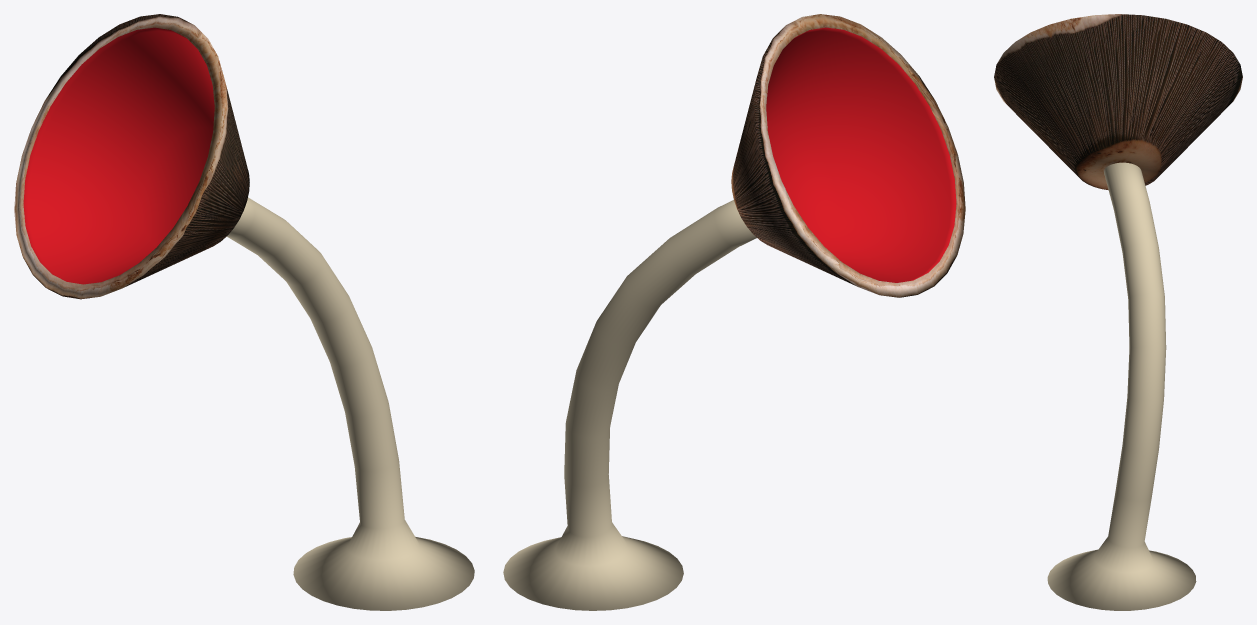
The model's file is champi41.fbx.
The picture shows the model from 3 angles, left to right: view 1: azimuth 30°, elevation 25°; view 2: azimuth 150°, elevation 25°; view 3: azimuth 270°, elevation 25°; orthographic projection. The views are drawn at different scales.
Visible parts, largest first — view 1: Cylinder_001; view 2: Cylinder_001; view 3: Cylinder_001.
Boxes of the visible parts, x1,y1,x2,y2 form: Cylinder_001: (14, 14, 474, 610); Cylinder_001: (503, 14, 965, 610); Cylinder_001: (994, 14, 1242, 610).
Bounding box in the file's own units: 106 × 145 × 66.81.
